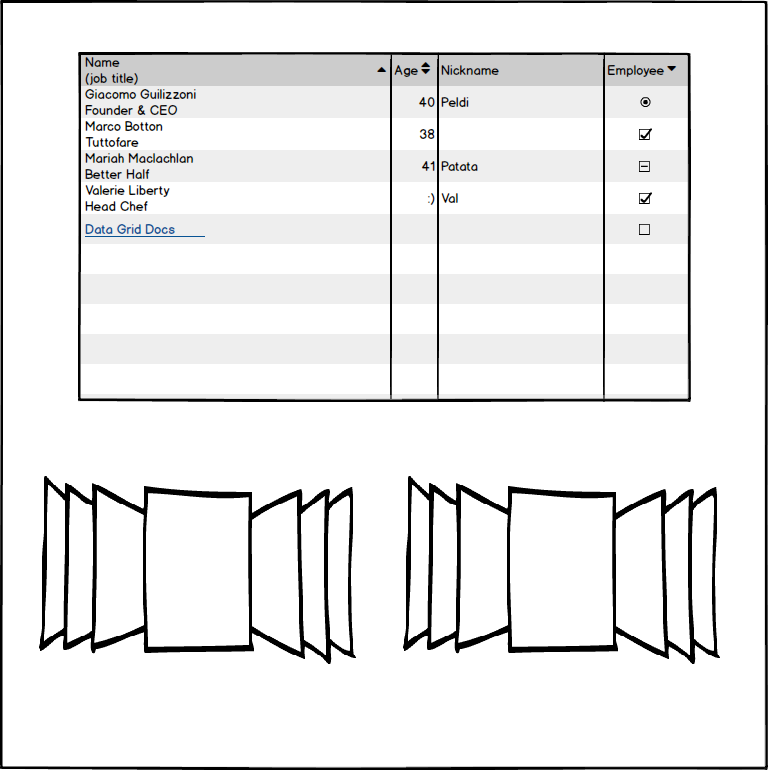slideshow: (396, 469, 729, 671), (27, 470, 365, 668)
table: (63, 43, 703, 411)
